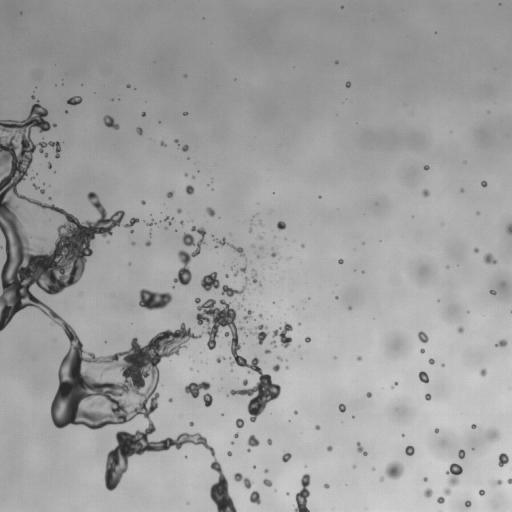droplet: (138, 288, 172, 310), (184, 381, 212, 407), (272, 322, 292, 347), (446, 463, 462, 486), (385, 461, 404, 479), (103, 115, 119, 129), (247, 435, 259, 451), (487, 428, 499, 441), (483, 253, 497, 264), (249, 491, 260, 504), (498, 453, 508, 467), (67, 96, 82, 105), (418, 331, 428, 343), (418, 371, 428, 383), (243, 309, 253, 320), (235, 418, 244, 428), (405, 445, 414, 455), (282, 452, 291, 462), (496, 339, 507, 347), (490, 479, 502, 486), (185, 185, 194, 194), (206, 207, 215, 216), (262, 478, 272, 486), (277, 221, 285, 230), (338, 403, 346, 412), (443, 487, 451, 496), (424, 488, 432, 497), (458, 449, 465, 459), (164, 216, 172, 224), (479, 368, 486, 376), (506, 224, 511, 234), (422, 189, 429, 196), (272, 364, 279, 371), (437, 496, 444, 503), (136, 127, 142, 135), (147, 220, 155, 226), (270, 340, 276, 348), (182, 144, 188, 151), (166, 191, 173, 197), (271, 250, 277, 257), (425, 393, 431, 400), (465, 500, 471, 507), (481, 181, 487, 187), (457, 327, 463, 333), (428, 358, 434, 364), (216, 357, 223, 362), (242, 379, 247, 386), (345, 81, 350, 87), (145, 241, 151, 246), (479, 489, 484, 495), (264, 349, 271, 353), (174, 139, 179, 144), (160, 141, 165, 146), (424, 165, 429, 170), (338, 259, 343, 264), (305, 337, 310, 342), (357, 356, 362, 361), (366, 392, 371, 397), (327, 446, 332, 451), (324, 483, 329, 488), (490, 290, 496, 294), (267, 438, 271, 444), (177, 208, 181, 213), (238, 303, 242, 308), (420, 348, 424, 353), (277, 356, 282, 360), (189, 421, 193, 426), (471, 424, 476, 428), (507, 478, 511, 483), (249, 226, 252, 232), (141, 200, 145, 204), (474, 248, 478, 252), (168, 398, 172, 402), (315, 425, 319, 429), (434, 428, 438, 432), (234, 433, 238, 437), (227, 451, 231, 455), (423, 477, 427, 481), (48, 163, 51, 168), (39, 237, 44, 240), (142, 112, 145, 116), (183, 112, 187, 115), (131, 242, 135, 245), (259, 314, 262, 318), (264, 469, 268, 472), (380, 477, 383, 481), (184, 173, 187, 176), (180, 221, 183, 224), (259, 236, 262, 239), (225, 274, 228, 277), (285, 366, 288, 369), (394, 382, 397, 385), (294, 411, 297, 414), (31, 96, 35, 98), (335, 60, 337, 63), (127, 84, 129, 87), (460, 189, 463, 191), (476, 212, 479, 214), (259, 221, 261, 224), (301, 245, 304, 247), (230, 267, 233, 269), (441, 364, 444, 366), (231, 441, 233, 444), (353, 465, 355, 468), (372, 467, 374, 470), (131, 230, 133, 232), (348, 307, 350, 309), (402, 434, 404, 436)
ligament: (0, 101, 281, 511), (173, 226, 205, 285), (201, 269, 261, 299), (212, 236, 245, 257), (294, 473, 310, 511), (234, 472, 252, 489), (356, 441, 367, 455), (124, 217, 139, 227), (234, 265, 246, 276), (33, 184, 44, 193)
